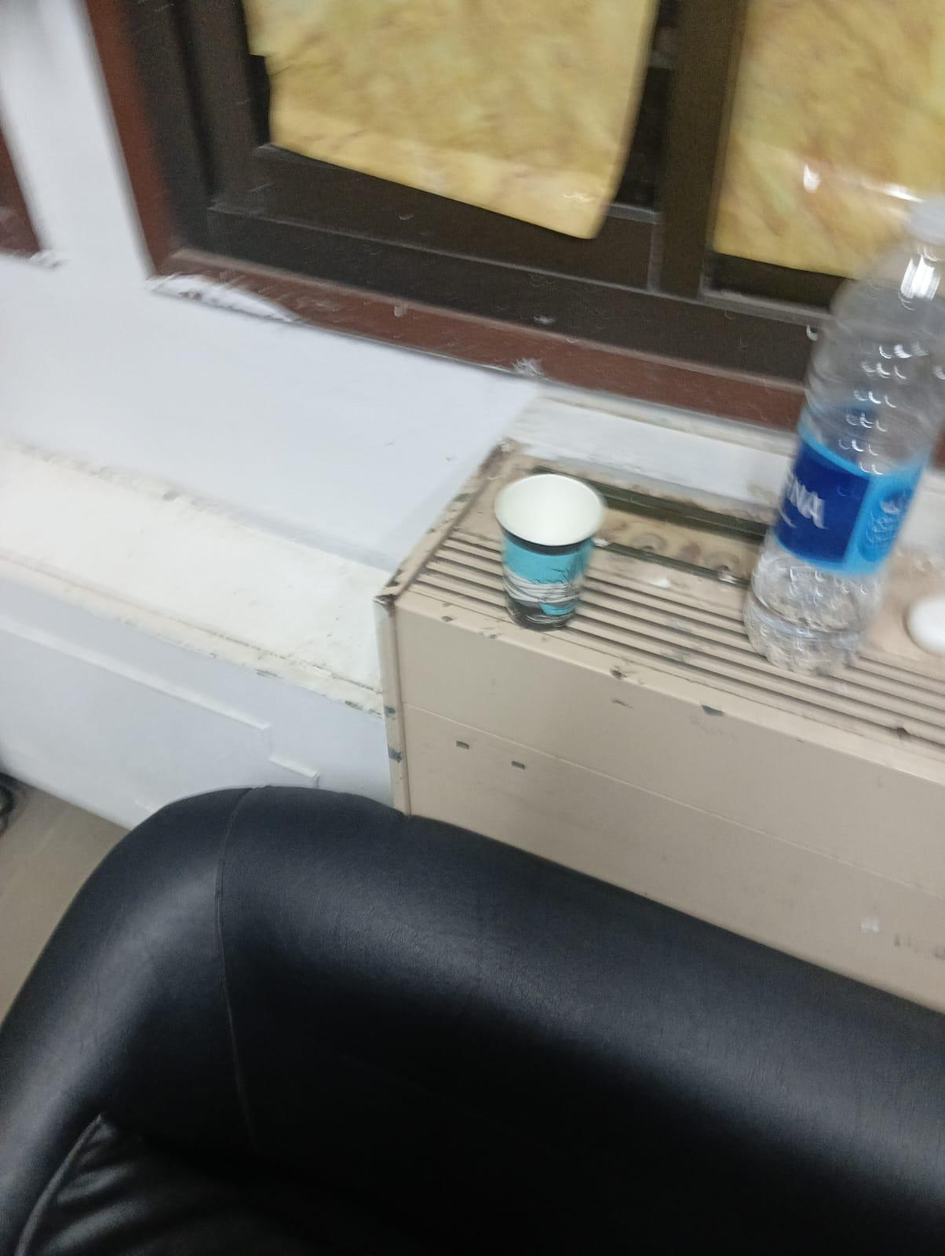cup: (494, 474, 604, 629)
